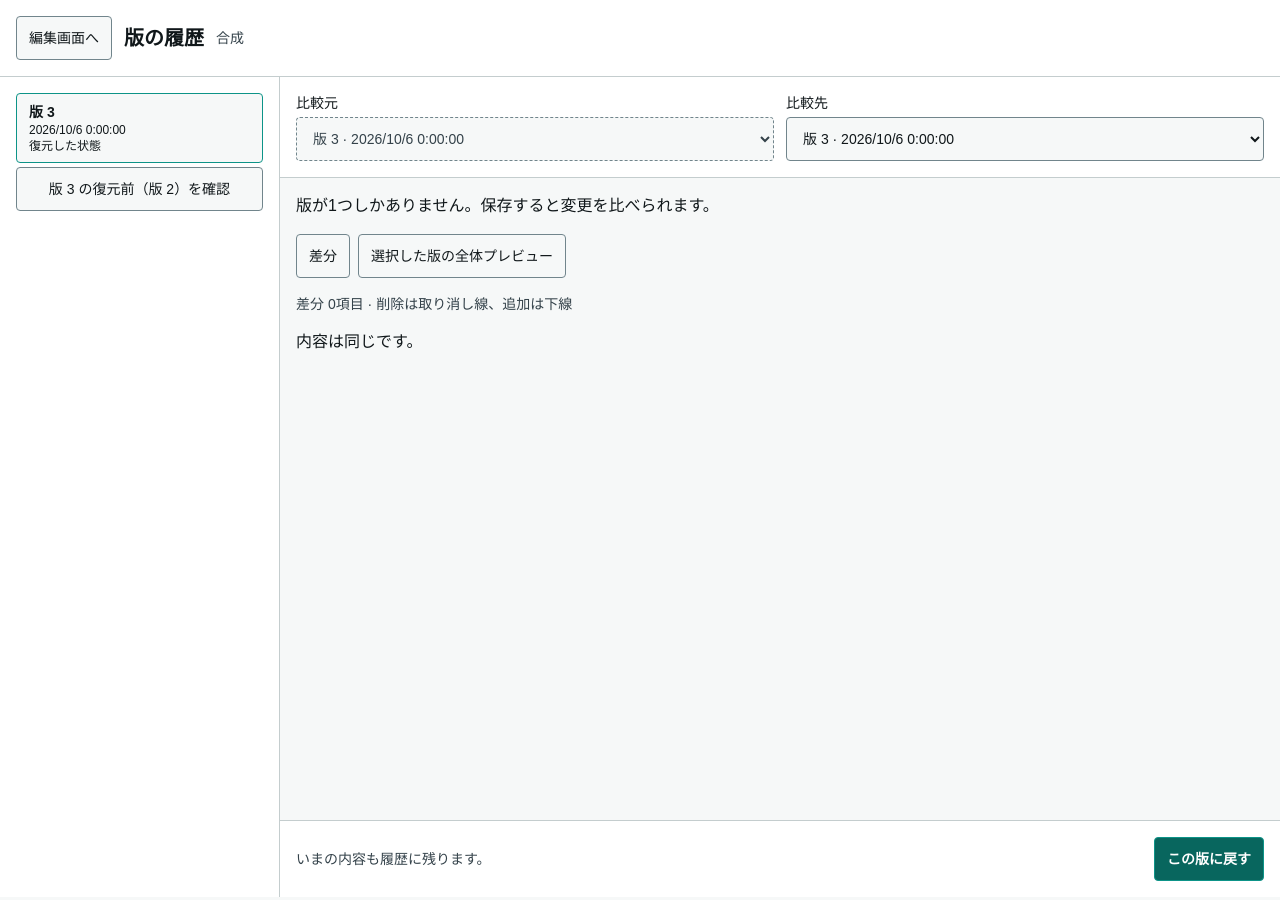
Test: シート全体の版の履歴 › 再読込後も履歴の復元前リンクが残り、復元した版を期待版に固定する
This screenshot has width=1280, height=900.
What coordinates should you click on to do the following:
click the button "版 3 の復元前（版 2）を確認"
I would click on:
 (140, 189)
Its box is [16,167,263,211].
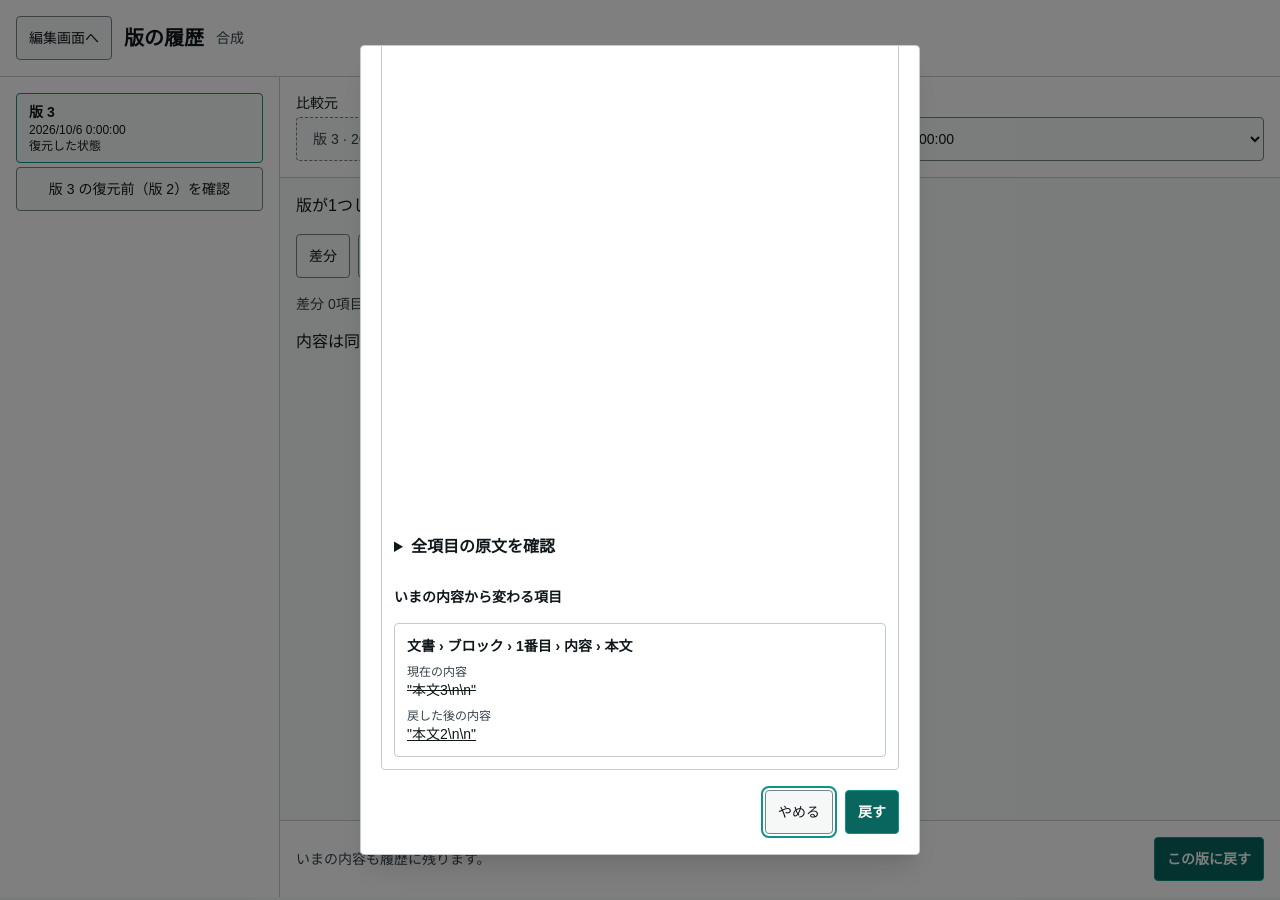
Now the text "\"本文2\\n\\n\"" is shown, box [407,726,476,742]
